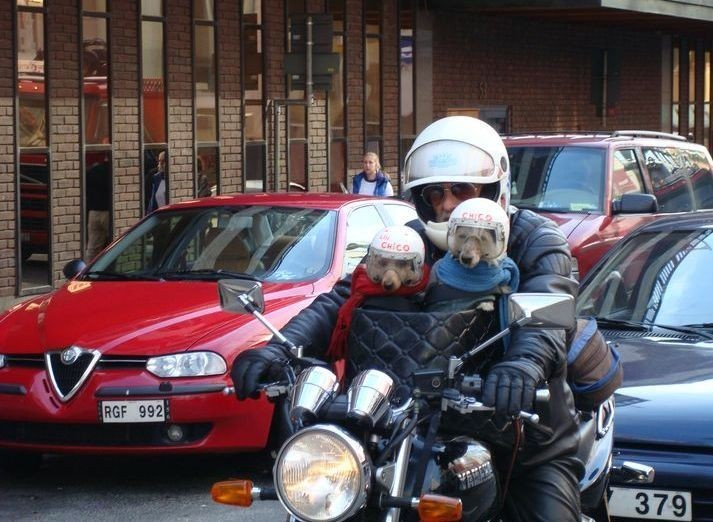helmet: (400, 118, 508, 195)
